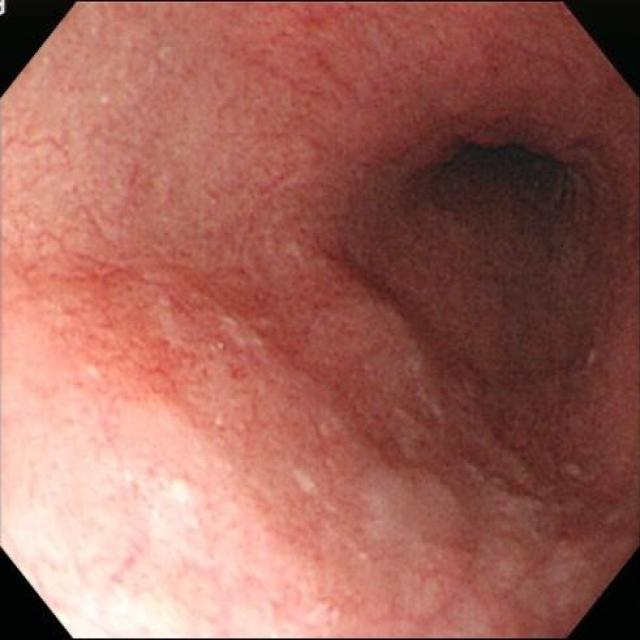E: (429, 135, 579, 239)
